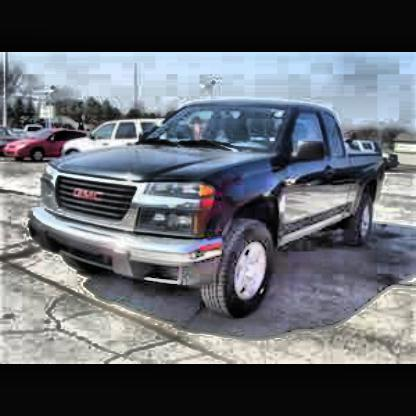GMC Canyon Extended Cab 2012: (31, 102, 388, 323)
